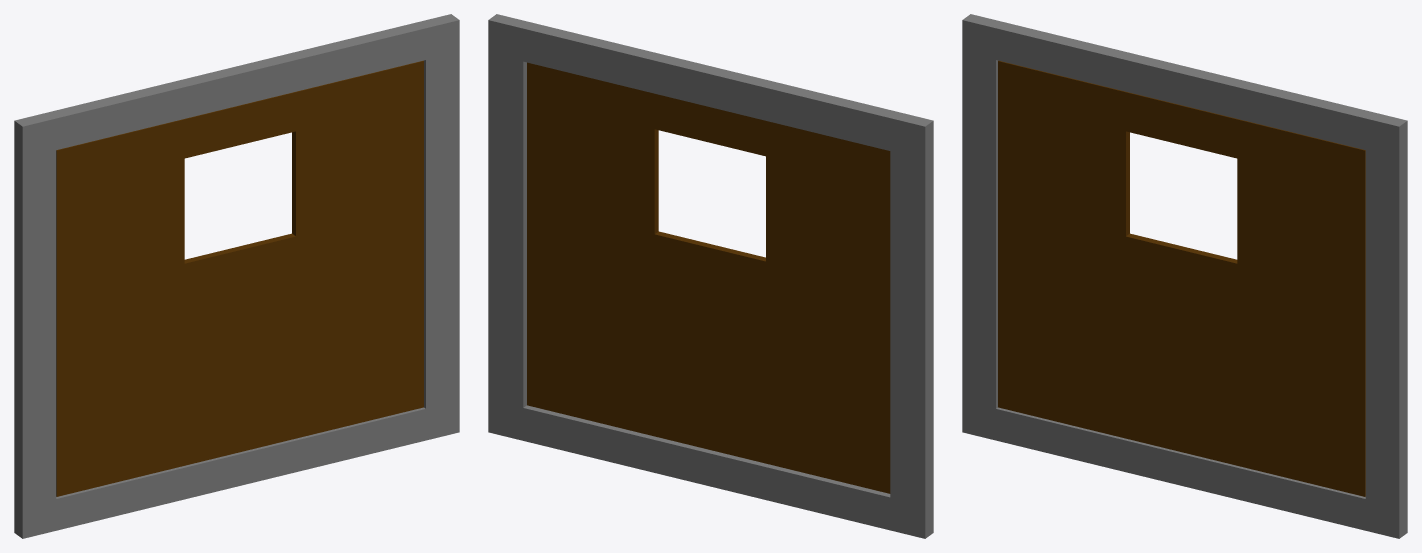
File: warehousedoor.obj
3 renders of one model, left to right at view 1: azimuth 30°, elevation 25°; view 2: azimuth 150°, elevation 25°; view 3: azimuth 330°, elevation 25°, orthographic.
Visible parts, largest first — view 1: Cube.001; view 2: Cube.001; view 3: Cube.001.
Part boxes in pixels (x1,y1,x2,y2): Cube.001: [14, 14, 459, 538]; Cube.001: [488, 14, 933, 538]; Cube.001: [962, 14, 1407, 538].
Bounding box in the file's own units: 9.02 × 8.13 × 0.2977.
